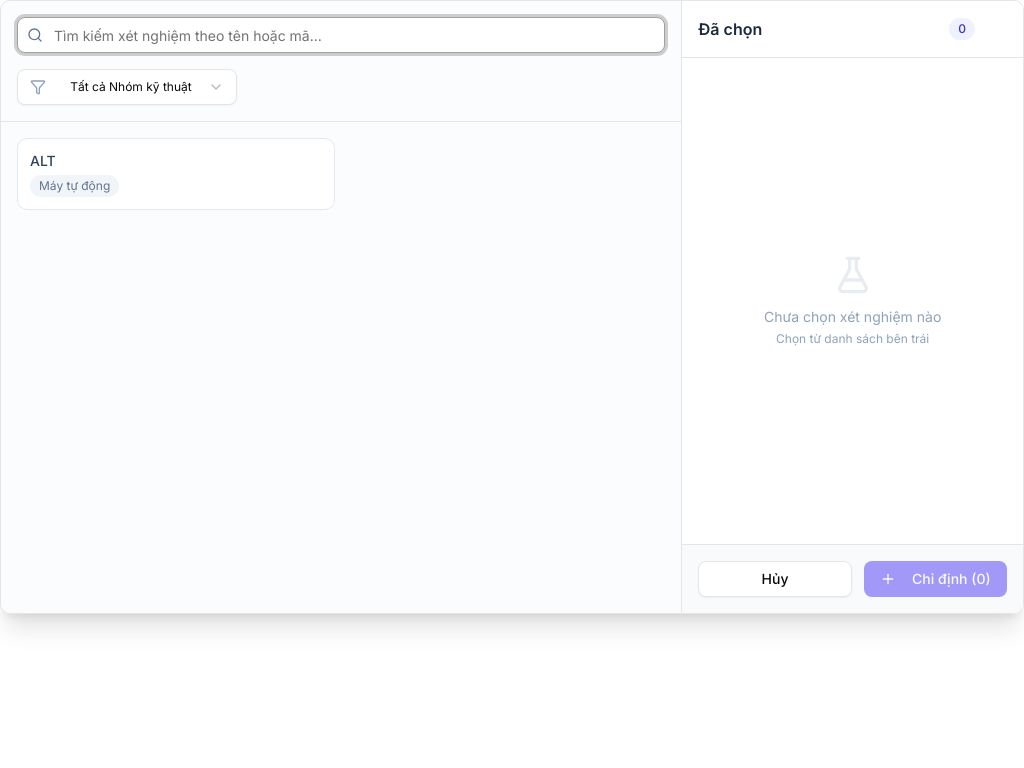
Test: TestAssignmentModule compatibility catalog › clears the selection and reloads the catalog after a stale assignment error
Click the heading "ALT".
click(43, 161)  # box [30, 151, 56, 171]
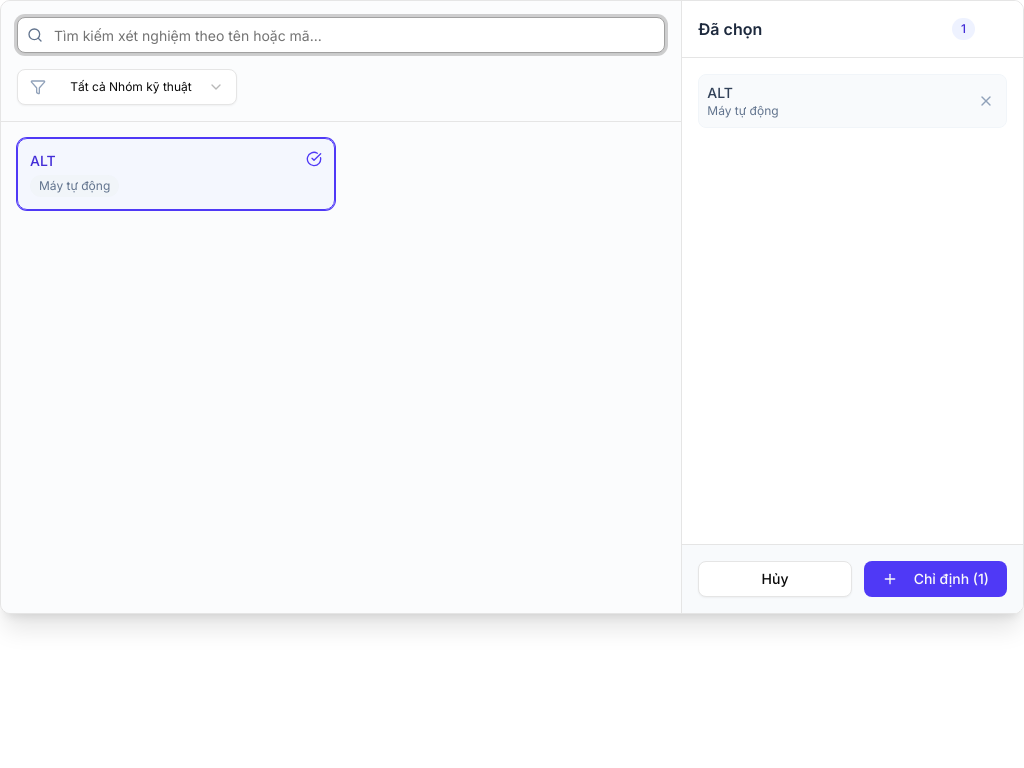
Click the button "Chỉ định (1)".
click(935, 579)  # box [864, 561, 1007, 597]
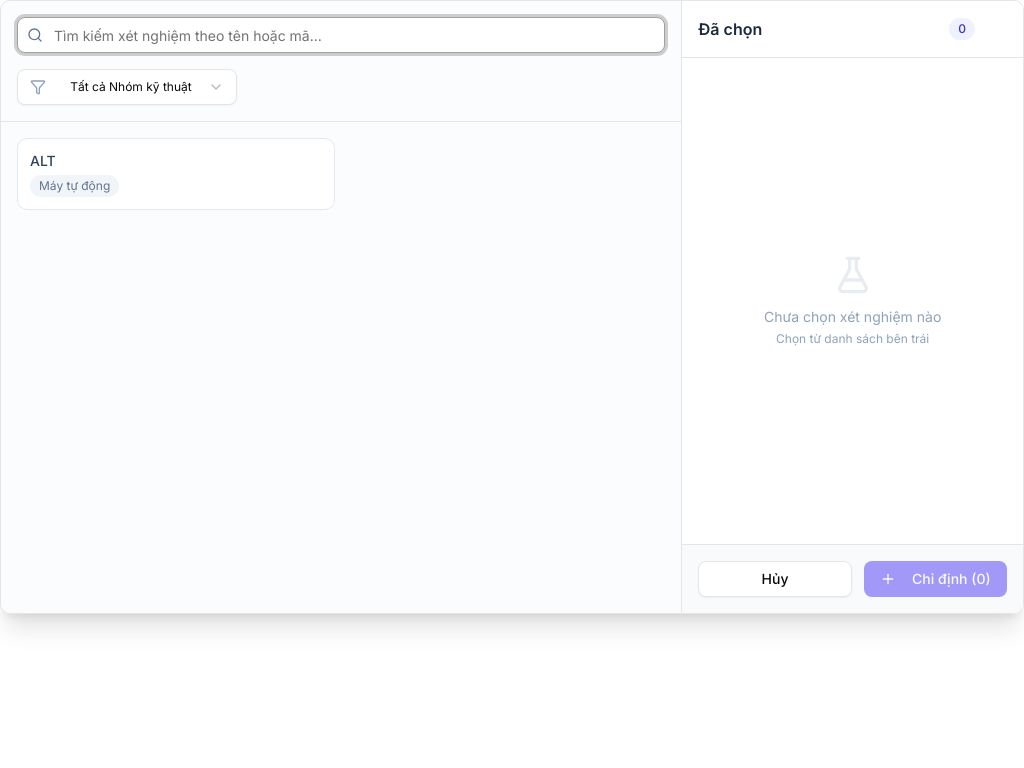
Expected: the button "Chỉ định (0)" is disabled, [864, 561, 1007, 597]
